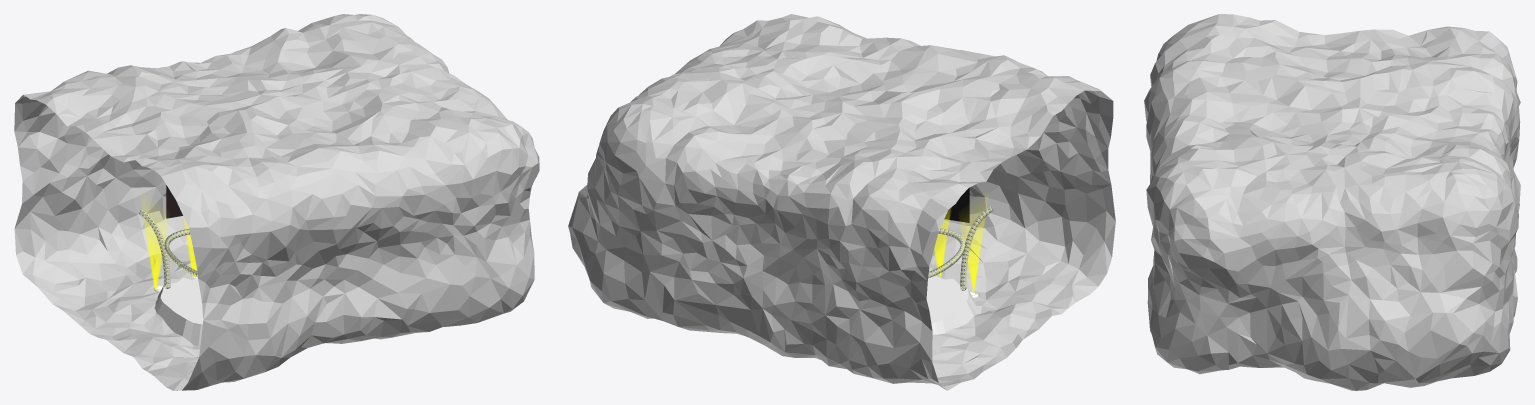
File: sceneV5.glb
The picture shows the model from 3 angles, left to right: view 1: azimuth 30°, elevation 25°; view 2: azimuth 150°, elevation 25°; view 3: azimuth 270°, elevation 25°; orthographic projection.
Parts seen in each view (by area): view 1: Grotte2, Scène, Lumière 3, Cube.004, Cube.007; view 2: Grotte2, Scène, Lumière 1, Cube.003, Ecran2, Cube.007, Lumière 2; view 3: Grotte2.
Boxes of the visible parts, x1=… form: Grotte2: x1=14, y1=14, x2=539, y2=390; Scène: x1=154, y1=277, x2=203, y2=345; Lumière 3: x1=143, y1=207, x2=166, y2=290; Cube.004: x1=138, y1=209, x2=170, y2=288; Cube.007: x1=164, y1=229, x2=197, y2=277; Grotte2: x1=568, y1=14, x2=1115, y2=390; Scène: x1=926, y1=276, x2=978, y2=334; Lumière 1: x1=961, y1=207, x2=985, y2=292; Cube.003: x1=960, y1=206, x2=993, y2=290; Ecran2: x1=944, y1=187, x2=969, y2=222; Cube.007: x1=928, y1=228, x2=964, y2=278; Lumière 2: x1=934, y1=208, x2=950, y2=277; Grotte2: x1=1144, y1=14, x2=1520, y2=390.
Bounding box in the file's own units: 41.86 × 22.15 × 34.31.
9 materials, 2 textured.
